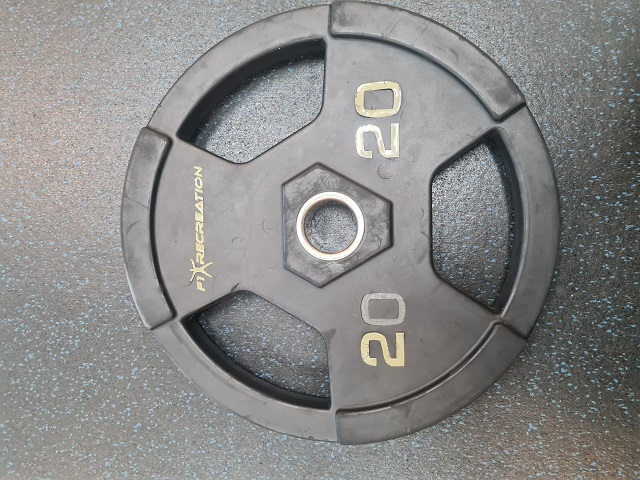weights: (120, 1, 561, 445)
